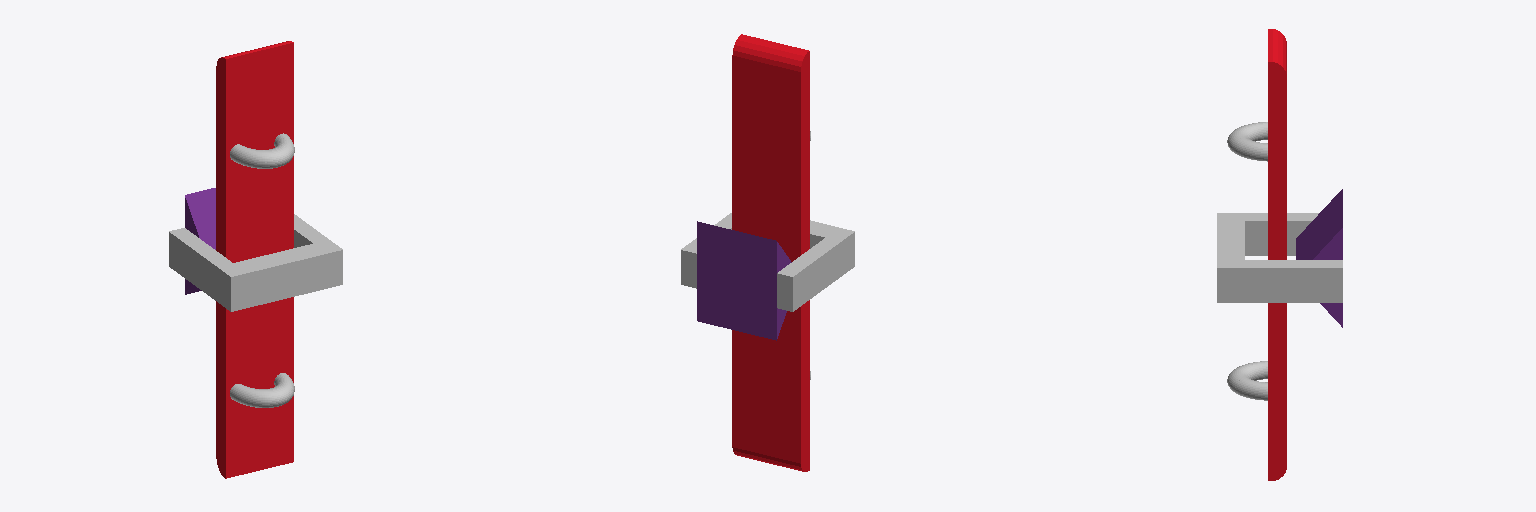
File: SeeSaw.obj
3 renders of one model, left to right at view 1: azimuth 30°, elevation 25°; view 2: azimuth 150°, elevation 25°; view 3: azimuth 270°, elevation 25°, orthographic.
Parts seen in each view (by area): view 1: obj_0; view 2: obj_0; view 3: obj_0.
Boxes of the visible parts, <box> form: obj_0: <box>169,41,342,478</box>; obj_0: <box>681,34,854,471</box>; obj_0: <box>1217,29,1342,480</box>.
Size of the model in its own units: 28 by 100 by 27.